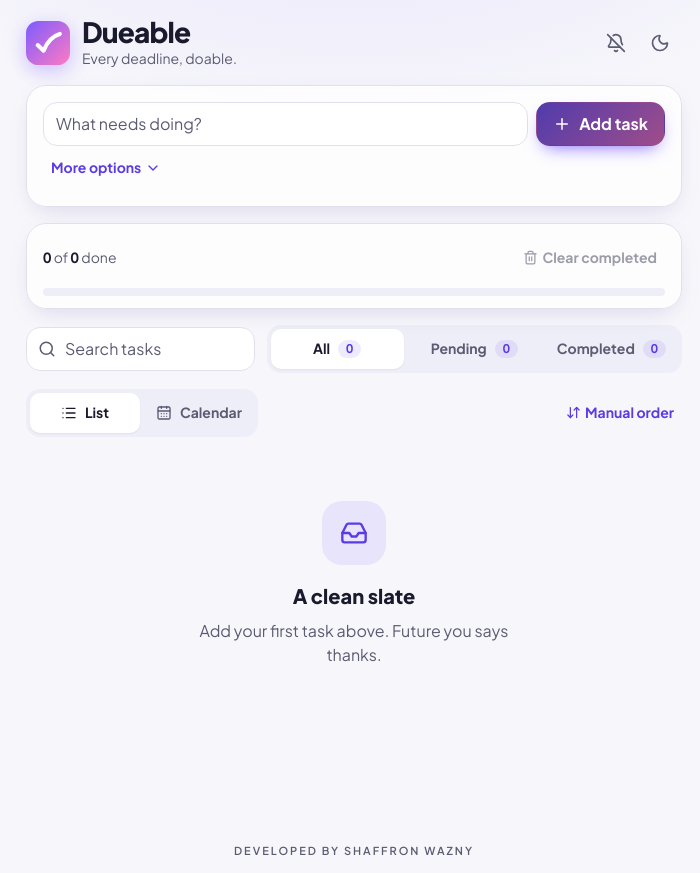
it: Dueable core flows › filters by All / Pending / Completed with live counts
Type "Math homework" into the field named "New task title". click: (286, 124)
box: [43, 102, 528, 146]
Then press Enter
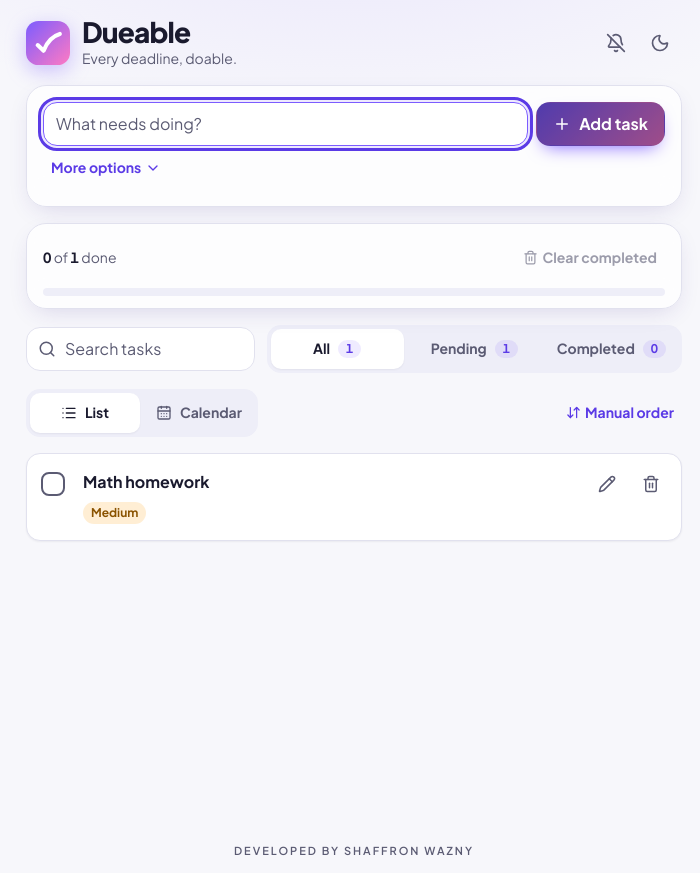
Type "History quiz" into the field named "New task title". click: (286, 124)
box: [43, 102, 528, 146]
Then press Enter
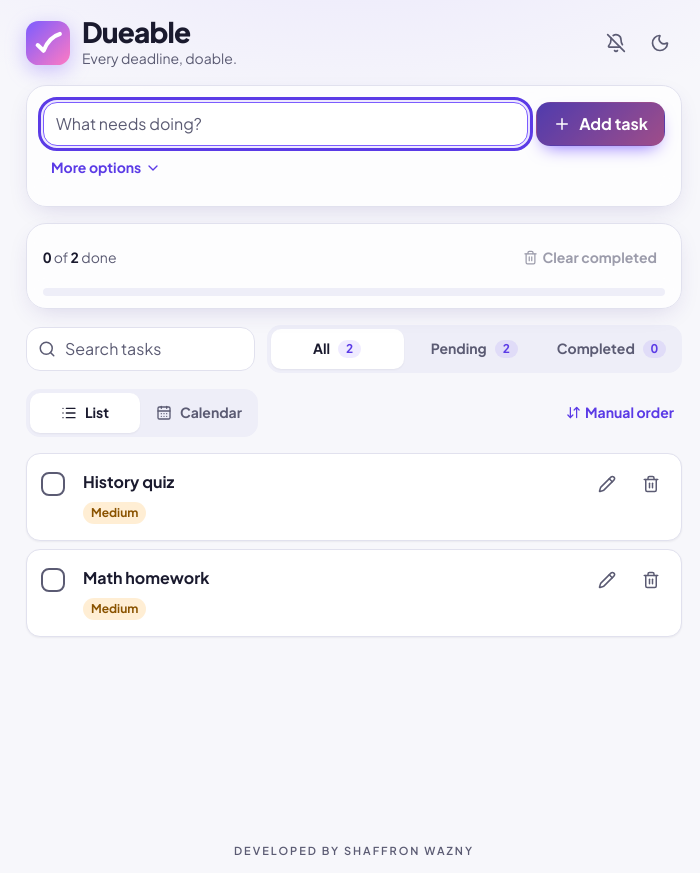
Click the checkbox named "Math homework". click: click(53, 580)
box: [41, 568, 65, 592]
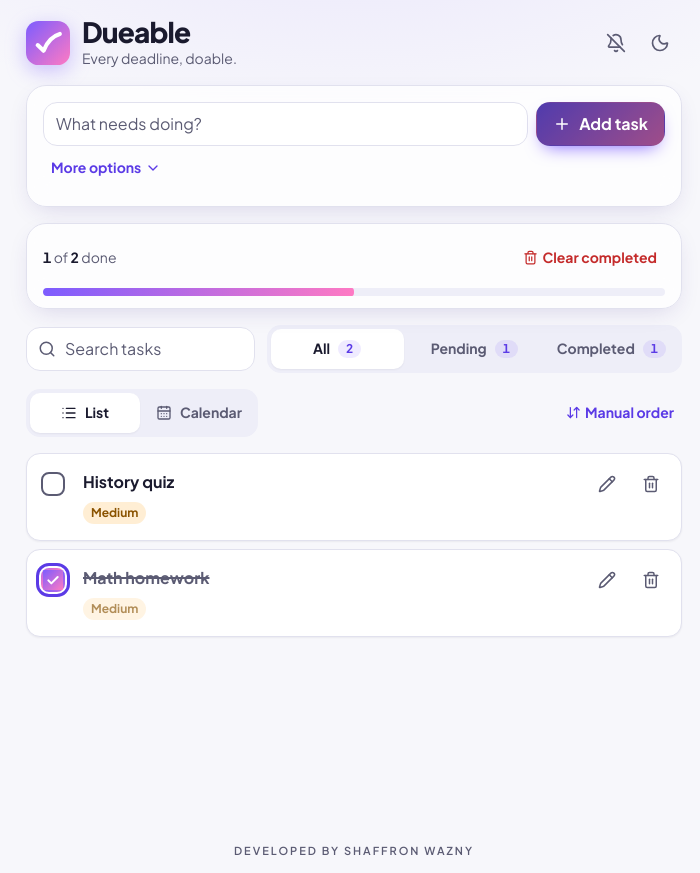
expect the button "All 2" is shown: met, box [270, 329, 404, 369]
expect the button "Pending 1" is shown: met
expect the button "Completed 1" is shown: met, box [545, 329, 678, 369]
Click the button "Pending 1". click: click(474, 349)
box: [408, 329, 541, 369]
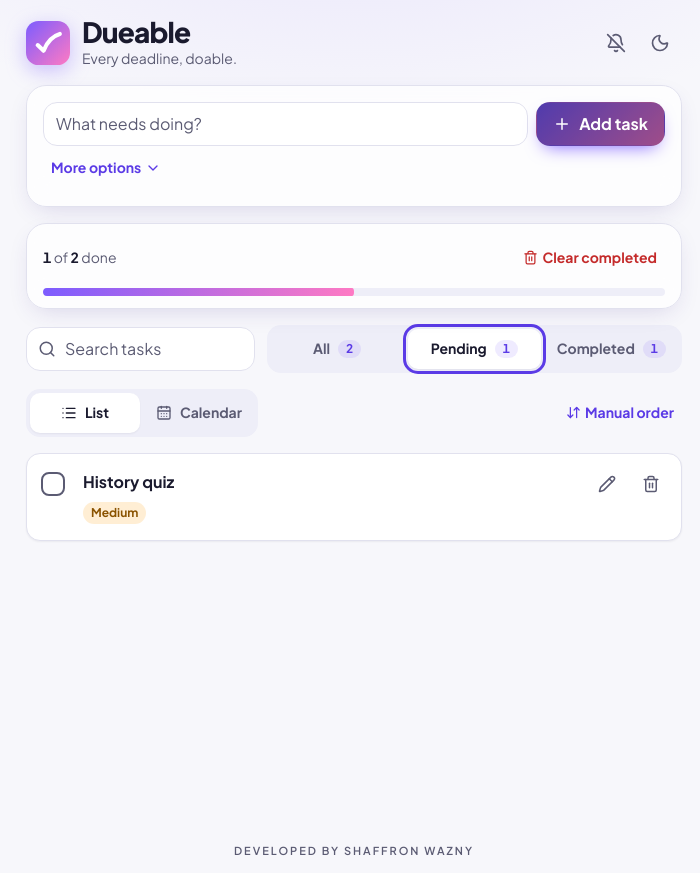
expect the text "History quiz" is shown: met, box [83, 471, 174, 492]
expect the text "Math homework" is gone: met
Click the button "Completed 1". click: click(611, 349)
box: [545, 329, 678, 369]
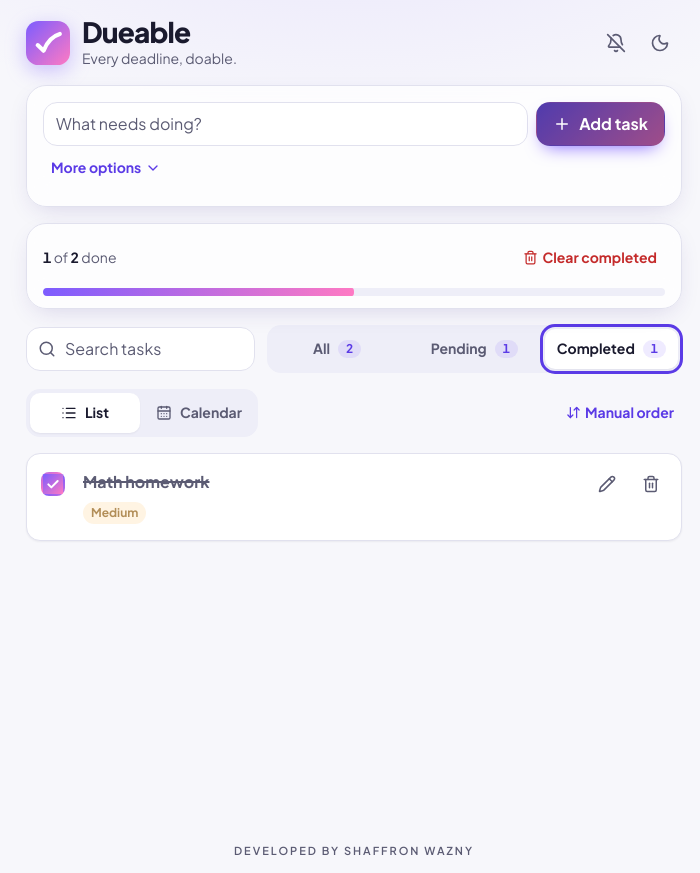
expect the text "Math homework" is shown: met, box [83, 471, 210, 492]
expect the text "History quiz" is gone: met
